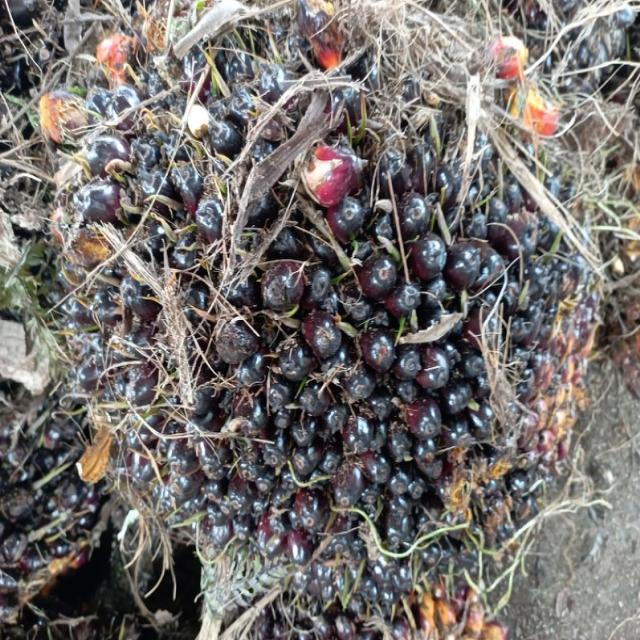fraksi 00: (48, 1, 621, 602)
